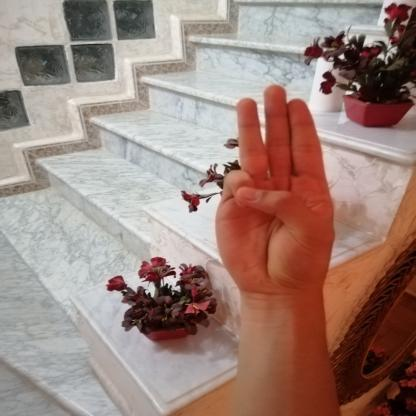THA: (204, 74, 349, 305)
